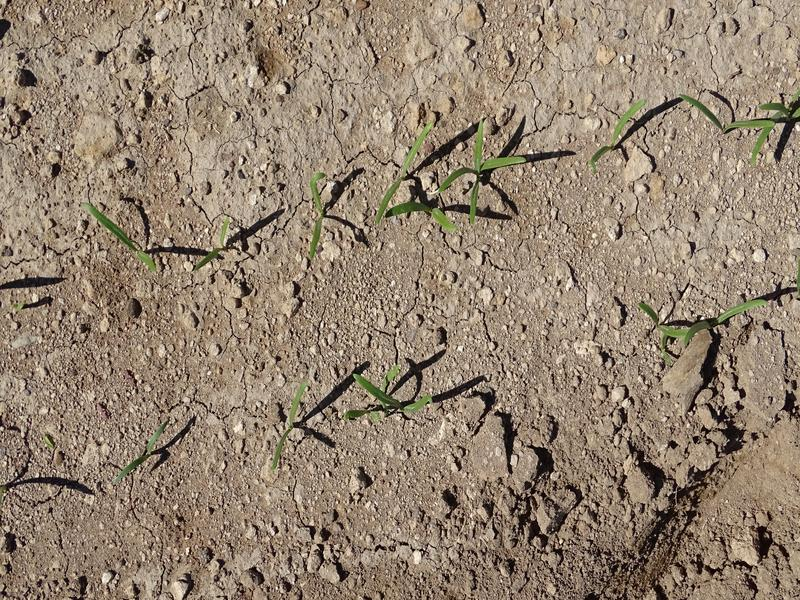Espinaca: (263, 362, 429, 455), (673, 89, 800, 161), (440, 118, 521, 216), (639, 292, 769, 351), (375, 118, 436, 224), (80, 197, 162, 273), (583, 98, 643, 165), (301, 170, 338, 257)
